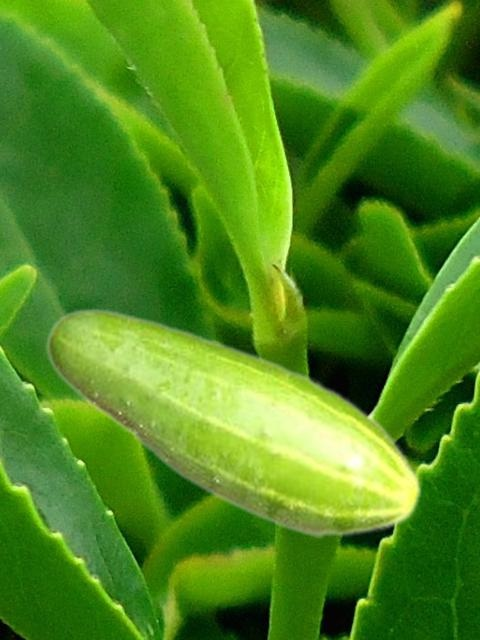cucumber: (45, 307, 422, 539)
